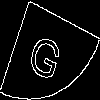G: (25, 25, 68, 84)
